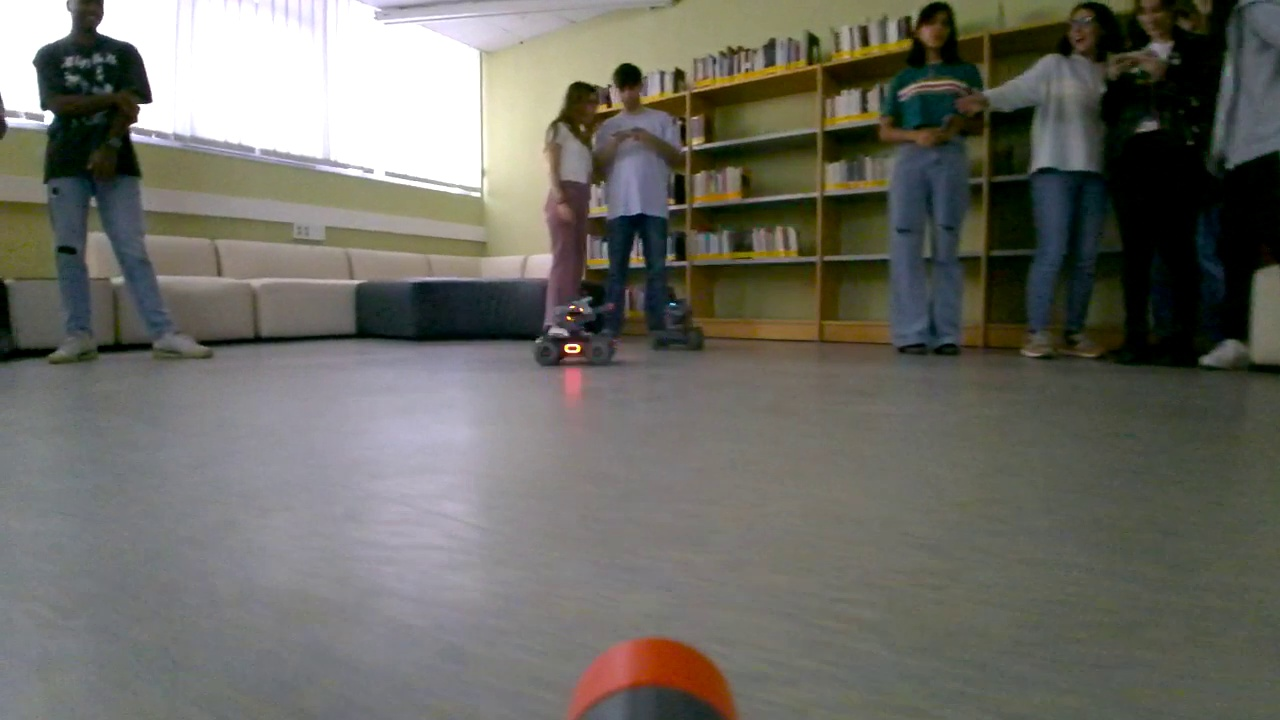robot: (532, 295, 615, 369), (650, 294, 704, 356)
